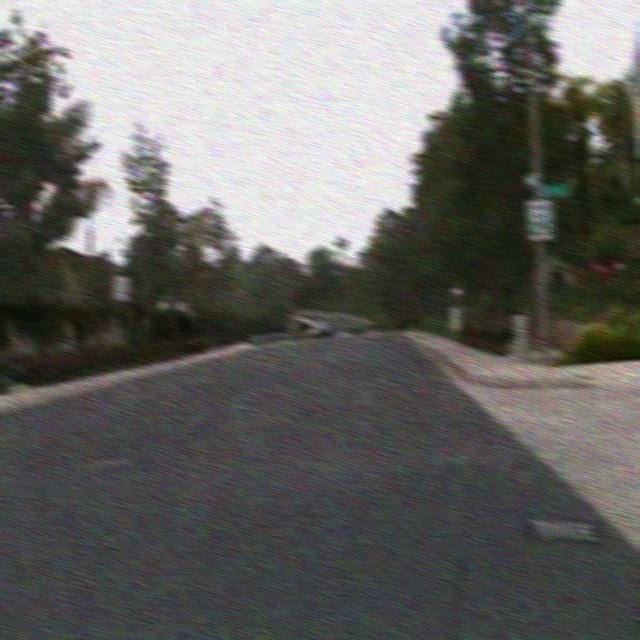speedLimit25: (524, 196, 554, 241)
